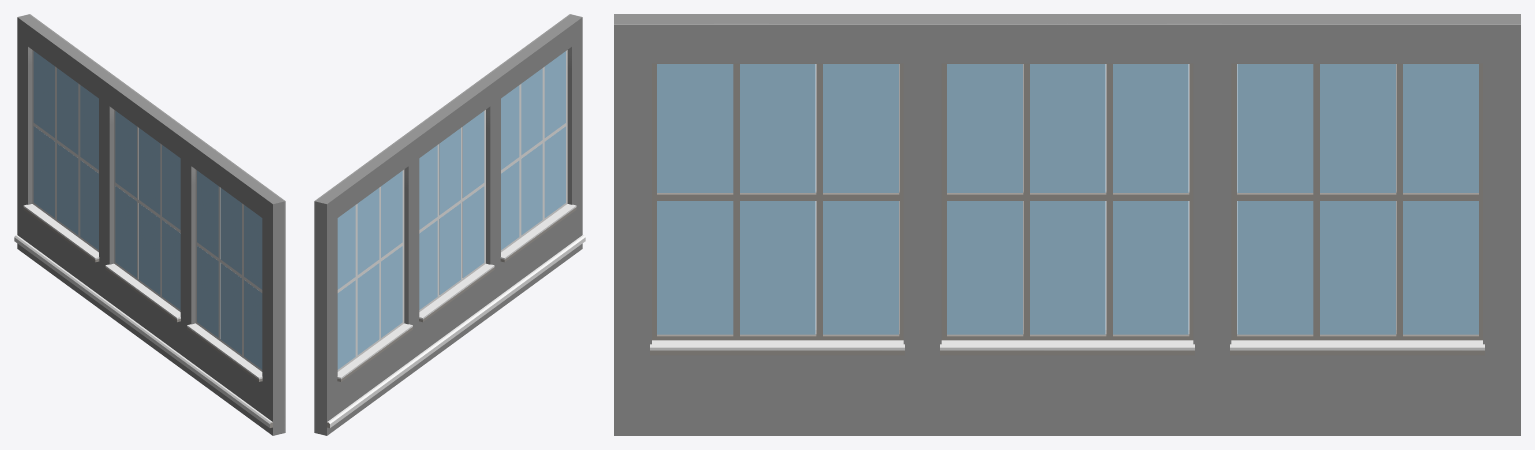
Rendered from window glass break.fbx.
3 renders of one model, left to right at view 1: azimuth 30°, elevation 25°; view 2: azimuth 150°, elevation 25°; view 3: azimuth 270°, elevation 25°, orthographic. The views are drawn at different scales.
Visible parts, largest first — view 1: WallFloor2_21, Plane.157, Plane.153, Plane.053, Plane.093, Plane.113, Plane.043, Plane.173, Plane.033, Plane.097, Plane.163, Plane.103 (+28 smaller); view 2: WallFloor2_21, Plane.157, Plane.047, Plane.043, Plane.163, Plane.097, Plane.167, Plane.153, Plane.093, Plane.037, Plane.103, Plane.017 (+28 smaller); view 3: WallFloor2_21, Plane.107, Plane.157, Plane.037, Plane.117, Plane.047, Plane.177, Plane.097, Plane.167, Plane.057, Plane.077, Plane.127 (+97 smaller).
Boxes of the visible parts, x1,y1,x2,y2 form: WallFloor2_21: [14, 14, 285, 435]; Plane.157: [80, 205, 93, 246]; Plane.153: [80, 160, 96, 204]; Plane.053: [197, 246, 213, 289]; Plane.093: [162, 220, 178, 263]; Plane.113: [115, 186, 131, 229]; Plane.043: [220, 263, 236, 306]; Plane.173: [33, 126, 49, 169]; Plane.033: [244, 280, 259, 323]; Plane.097: [162, 265, 175, 306]; Plane.163: [57, 143, 73, 186]; Plane.103: [139, 203, 154, 246]; WallFloor2_21: [314, 14, 585, 435]; Plane.157: [381, 288, 394, 337]; Plane.047: [521, 185, 534, 235]; Plane.043: [521, 147, 537, 183]; Plane.163: [358, 267, 373, 303]; Plane.097: [463, 229, 476, 277]; Plane.167: [358, 305, 371, 354]; Plane.153: [381, 250, 397, 286]; Plane.093: [463, 190, 478, 226]; Plane.037: [545, 168, 558, 217]; Plane.103: [440, 207, 455, 243]; Plane.017: [521, 106, 534, 155]; WallFloor2_21: [614, 14, 1520, 435]; Plane.107: [1057, 262, 1104, 334]; Plane.157: [1265, 262, 1312, 334]; Plane.037: [685, 262, 732, 334]; Plane.117: [1140, 262, 1188, 334]; Plane.047: [767, 262, 815, 334]; Plane.177: [1431, 262, 1478, 334]; Plane.097: [975, 262, 1022, 334]; Plane.167: [1348, 262, 1395, 334]; Plane.057: [851, 262, 898, 334]; Plane.077: [1057, 123, 1105, 192]; Plane.127: [1265, 122, 1312, 192].
Bounding box in the file's own units: 23.33 × 250 × 500.
Materials: 2 (2 with a texture image).
